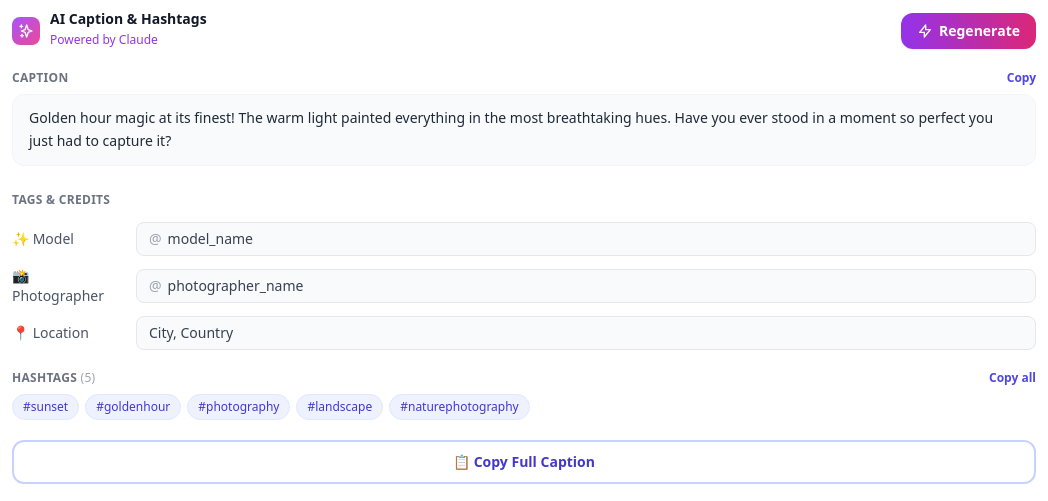
Test: CaptionPanel › shows confirmation message after copying the full caption
The width and height of the screenshot is (1048, 501).
What coordinates should you click on to do the following:
click the button "📋 Copy Full Caption"
I would click on:
 (524, 462)
Its box is [12,440,1036,484].
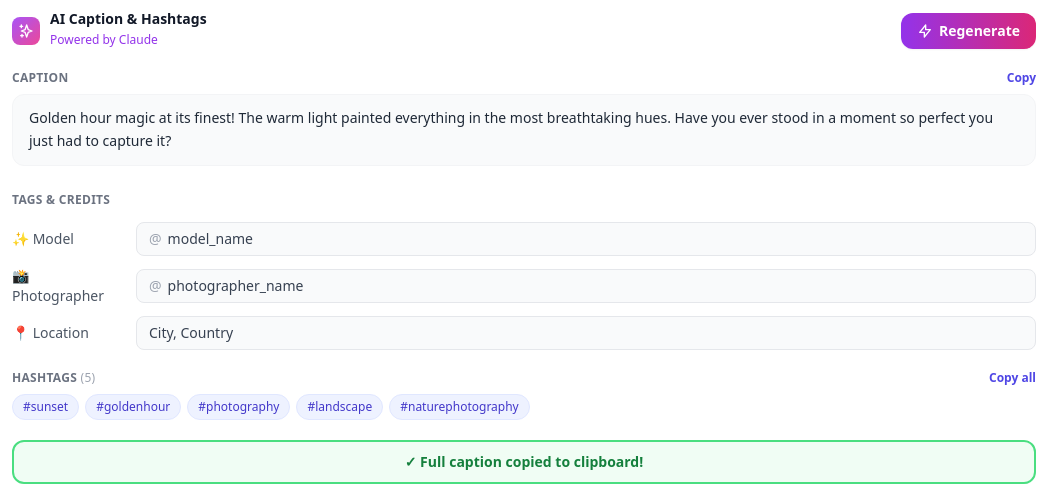
Check: the text "Full caption copied to clipboard" is shown, box [12,440,1036,484]
